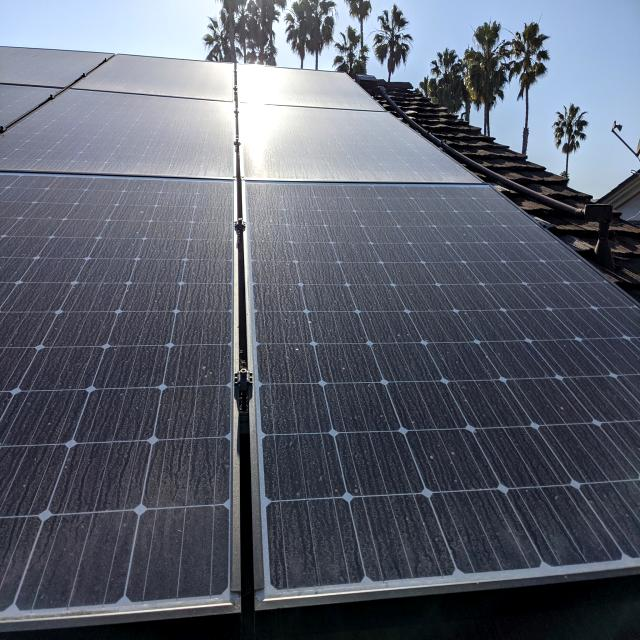dust: (434, 302, 614, 554), (260, 298, 416, 576), (12, 389, 218, 588), (9, 248, 112, 370), (255, 196, 405, 274), (129, 256, 223, 370), (19, 186, 220, 238), (428, 190, 504, 296)
